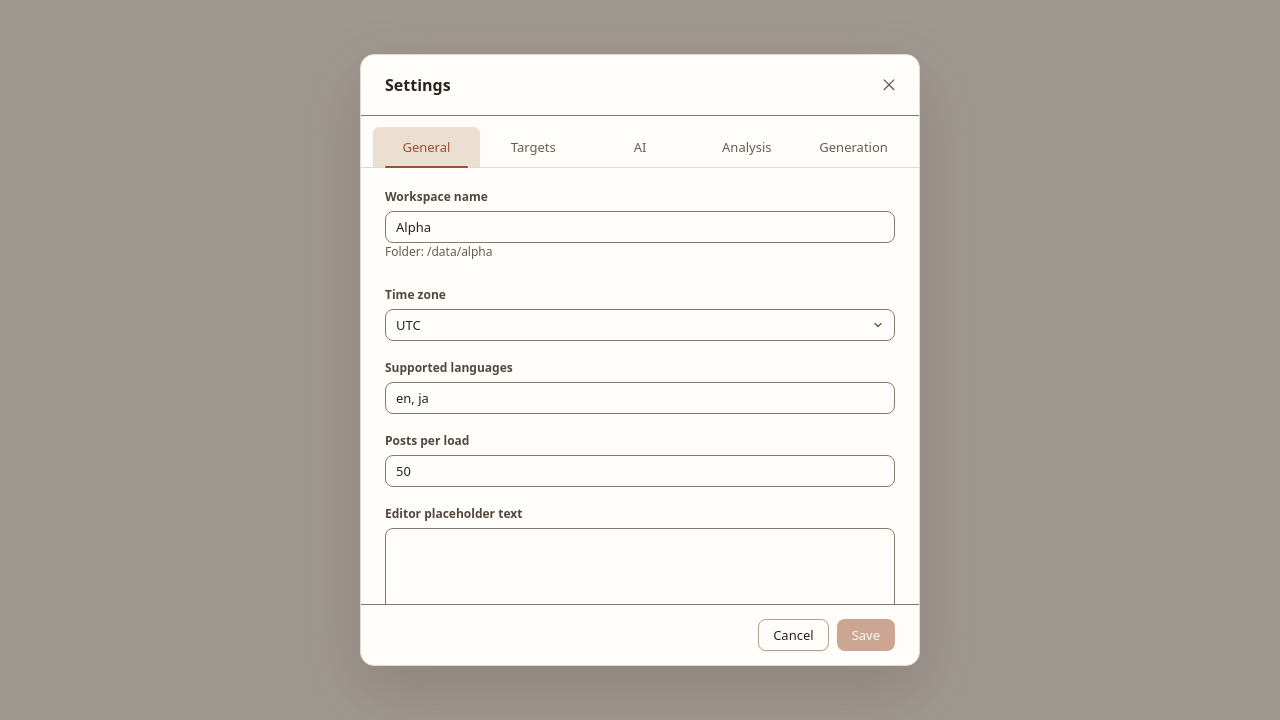
it: SettingsModal — render and tab switching › renders all five tabs and switches the visible panel
Expected: the tab "General" is shown, [373,127,480,167]
Expected: the tab "Targets" is shown, [480,127,587,167]
Click the tab "AI" at (640, 147), box [587,127,693,167]
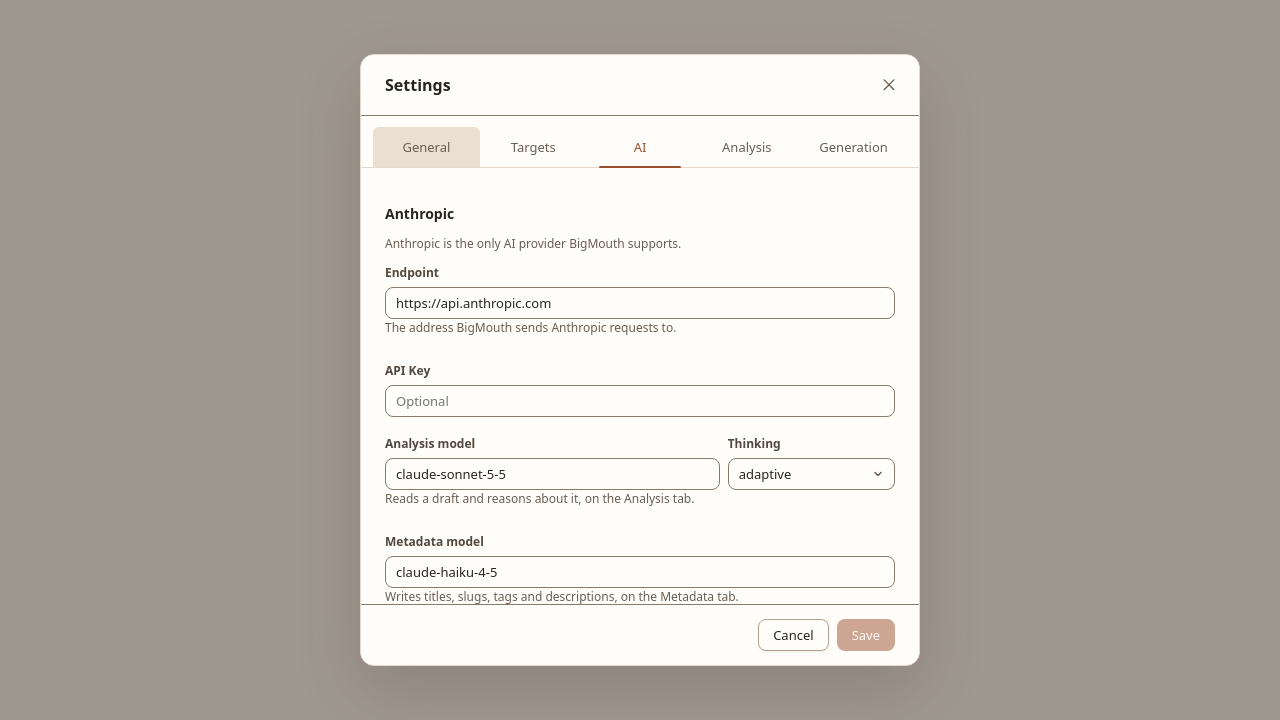
Now the text "Anthropic is the only AI provider BigMouth supports." is shown, box [385,235,681,252]
